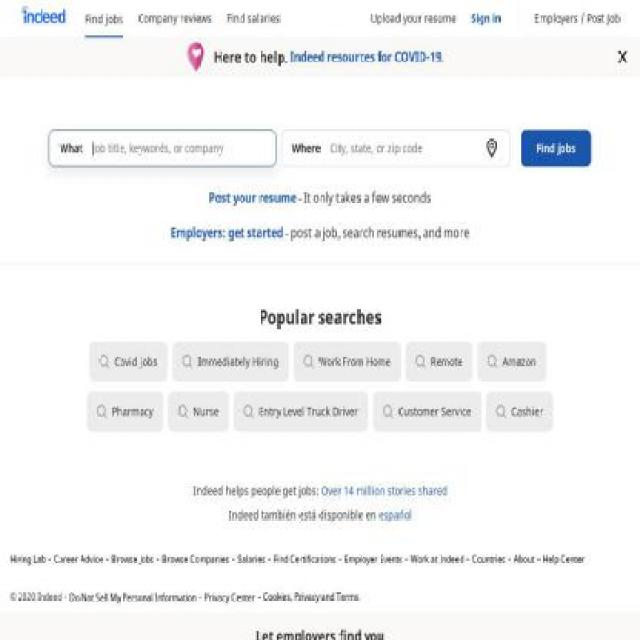button: (233, 392, 369, 432), (172, 342, 288, 382), (293, 342, 401, 382), (373, 392, 481, 432), (369, 0, 456, 38), (534, 0, 620, 38), (89, 342, 168, 382), (86, 392, 163, 432), (138, 0, 213, 38), (289, 48, 445, 66), (477, 342, 546, 382), (486, 392, 554, 432), (405, 342, 472, 382), (520, 130, 592, 167), (168, 392, 229, 432), (226, 0, 280, 38), (263, 588, 359, 606), (85, 0, 123, 38), (19, 6, 70, 28), (472, 10, 501, 27)
field: (91, 130, 267, 167), (330, 130, 501, 167)
